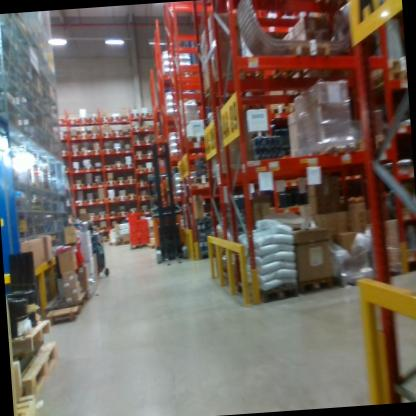forklift: (139, 138, 192, 275)
pallet: (268, 37, 333, 96), (19, 336, 64, 396), (229, 47, 270, 103), (225, 0, 285, 35), (11, 313, 56, 356), (242, 276, 303, 307), (288, 267, 336, 303), (335, 262, 383, 290), (286, 11, 338, 33), (287, 30, 347, 47), (360, 67, 408, 88), (182, 170, 213, 200), (11, 353, 30, 400), (41, 304, 83, 324), (363, 56, 407, 75), (60, 287, 87, 311), (15, 393, 43, 416), (305, 0, 358, 11), (183, 134, 206, 147), (112, 235, 134, 248), (130, 238, 149, 252), (131, 109, 150, 121), (91, 178, 106, 189), (70, 182, 85, 191), (140, 205, 150, 218), (123, 142, 134, 153), (95, 195, 107, 205), (104, 161, 116, 171), (99, 233, 110, 243), (88, 114, 99, 124), (105, 178, 117, 187), (84, 179, 93, 191), (115, 161, 125, 171), (101, 129, 112, 138), (133, 137, 144, 146), (78, 114, 89, 123), (99, 211, 109, 220), (137, 193, 148, 201), (112, 147, 123, 155), (124, 163, 135, 171), (74, 198, 85, 206), (136, 166, 146, 174), (144, 137, 152, 147), (135, 152, 143, 162), (124, 178, 137, 184), (102, 148, 113, 155), (115, 178, 126, 185), (86, 213, 97, 220), (131, 127, 143, 133), (84, 197, 96, 203), (145, 165, 155, 172), (137, 181, 147, 188), (122, 130, 131, 137), (108, 212, 117, 219), (116, 195, 126, 201), (97, 224, 108, 229), (112, 132, 121, 138), (126, 193, 135, 199), (142, 126, 152, 131), (107, 197, 116, 201), (92, 226, 98, 231)
small_load_carrier: (137, 216, 151, 231), (128, 232, 141, 248), (139, 231, 151, 247), (128, 212, 139, 224), (129, 223, 138, 233)
